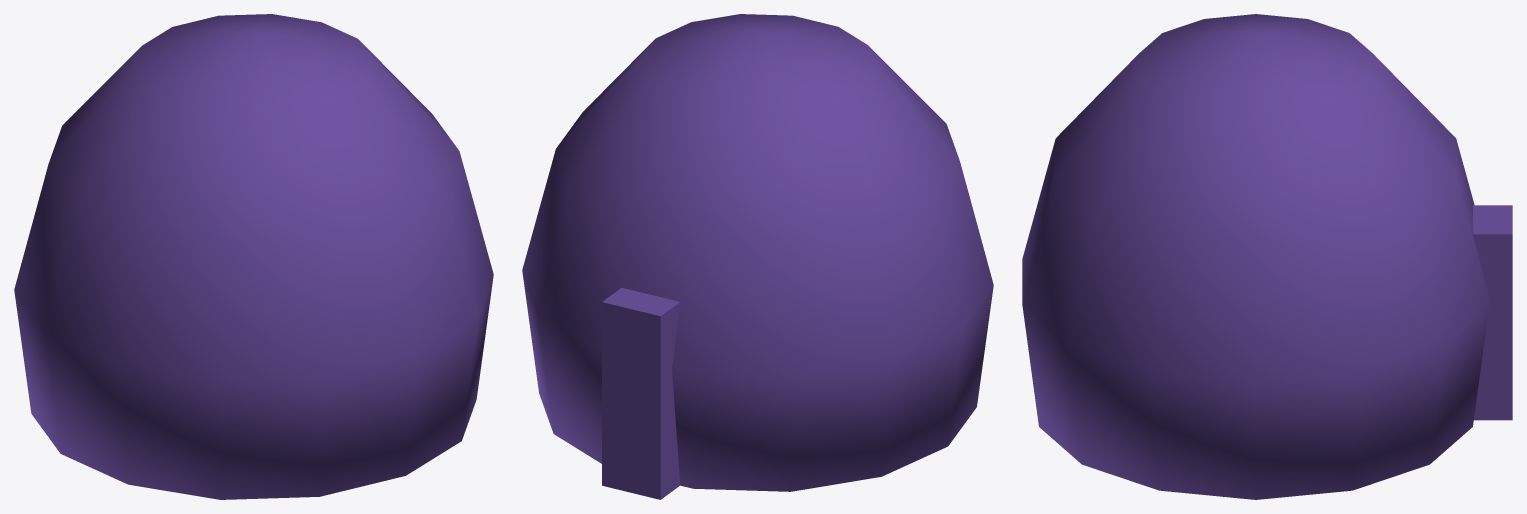
Rendered from umbrite_helmet.glb.
3 renders of one model, left to right at view 1: azimuth 30°, elevation 25°; view 2: azimuth 150°, elevation 25°; view 3: azimuth 270°, elevation 25°, orthographic.
Parts seen in each view (by area): view 1: umbrite_helmet_v0; view 2: umbrite_helmet_v0; view 3: umbrite_helmet_v0.
Boxes of the visible parts, left/top/right/bottom form: umbrite_helmet_v0: left=14, top=14, right=493, bottom=499; umbrite_helmet_v0: left=522, top=14, right=993, bottom=499; umbrite_helmet_v0: left=1022, top=14, right=1512, bottom=499.
Size of the model in its own units: 0.28 by 0.24 by 0.2865.
